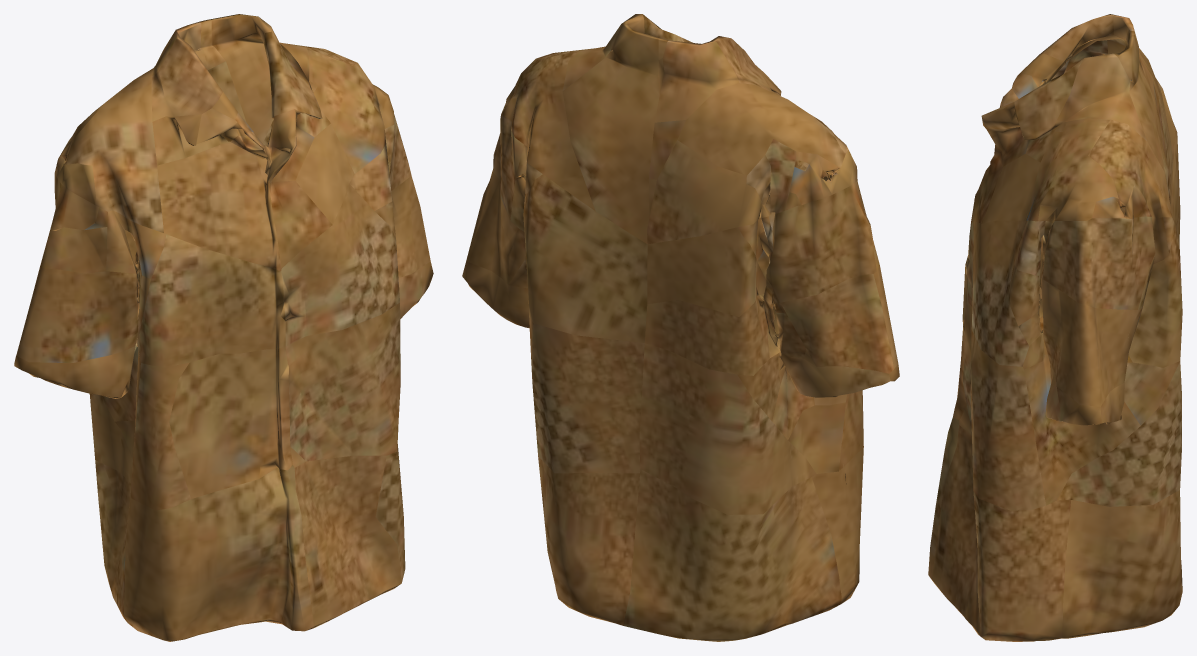
Rendered from shirt.glb.
3 renders of one model, left to right at view 1: azimuth 30°, elevation 25°; view 2: azimuth 150°, elevation 25°; view 3: azimuth 270°, elevation 25°, orthographic. The views are drawn at different scales.
Parts seen in each view (by area): view 1: garment; view 2: garment; view 3: garment.
Part boxes in pixels (<box>): garment: <box>14,14,433,641</box>; garment: <box>462,14,899,641</box>; garment: <box>928,14,1182,641</box>.
Size of the model in its own units: 0.7939 by 0.9991 by 0.4201.
1 material, 1 textured.
